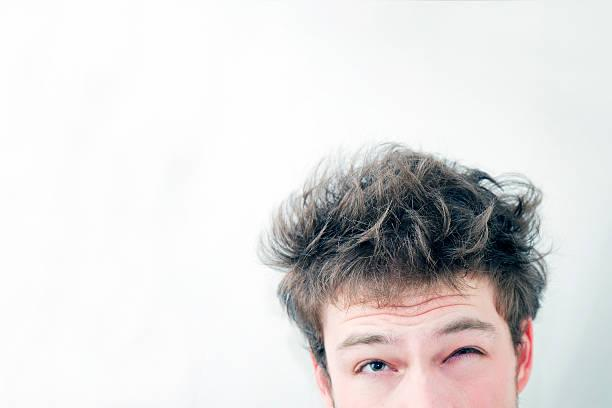dry hair: (345, 199, 494, 238), (317, 257, 454, 294), (383, 157, 436, 194), (406, 240, 501, 254), (299, 237, 312, 275)
